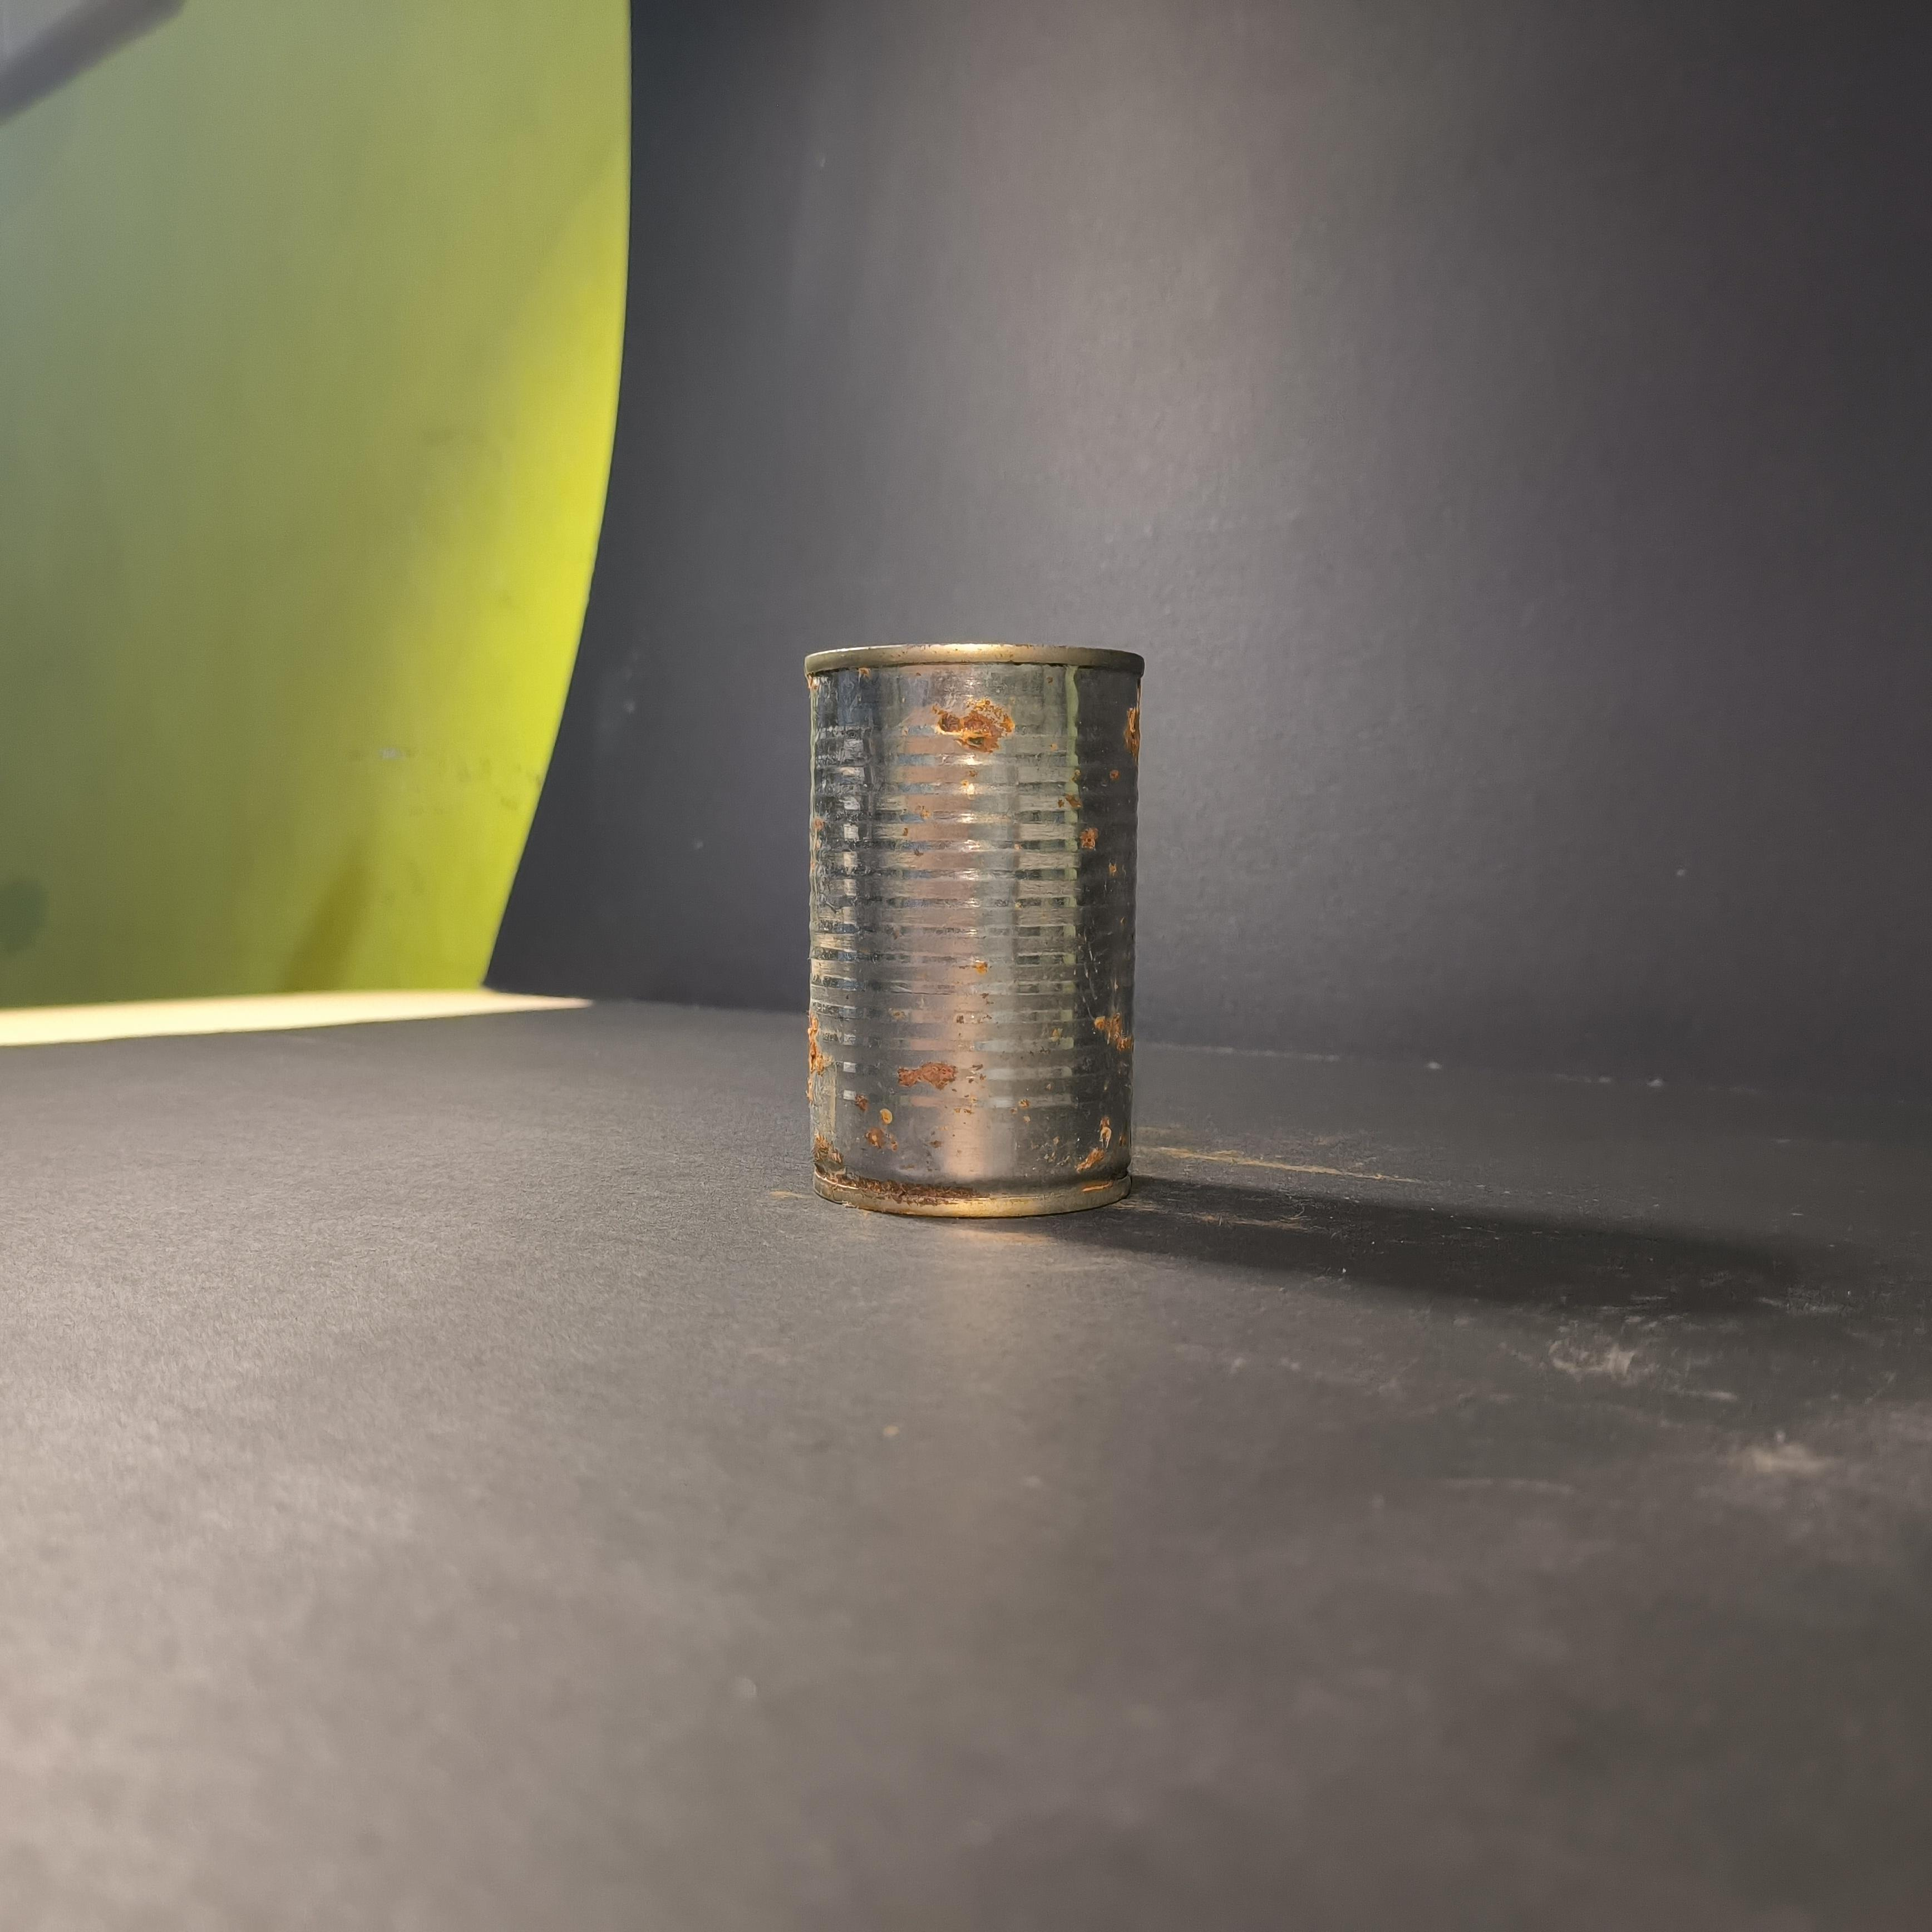Rusted: (798, 621, 1162, 1224)
